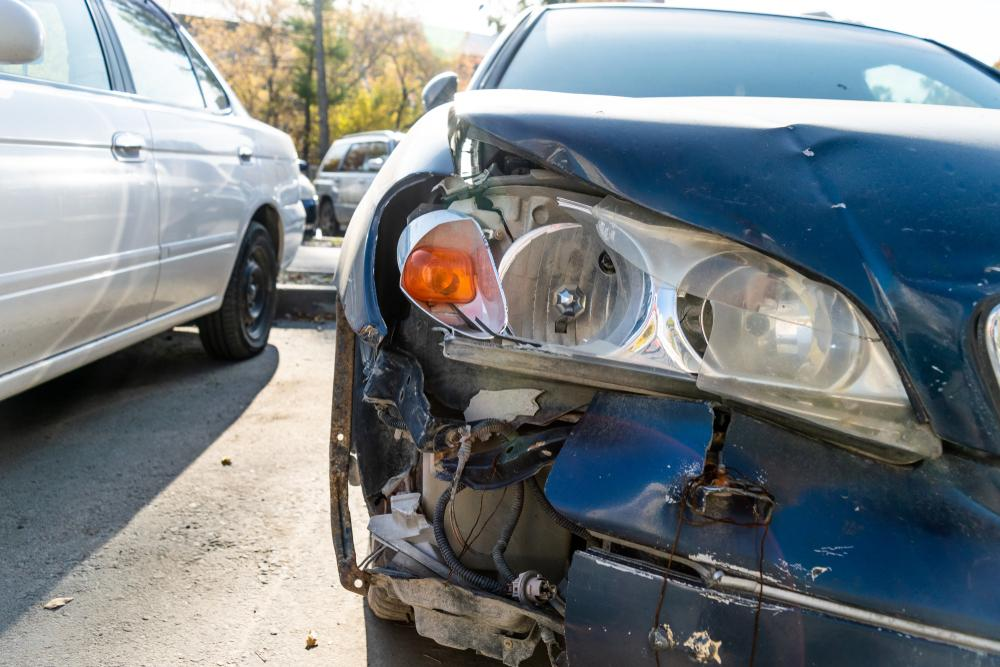crack: (686, 408, 735, 497)
dent: (760, 125, 995, 324)
lamp broken: (392, 119, 922, 459)
